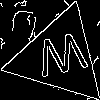W: (34, 31, 91, 87)
